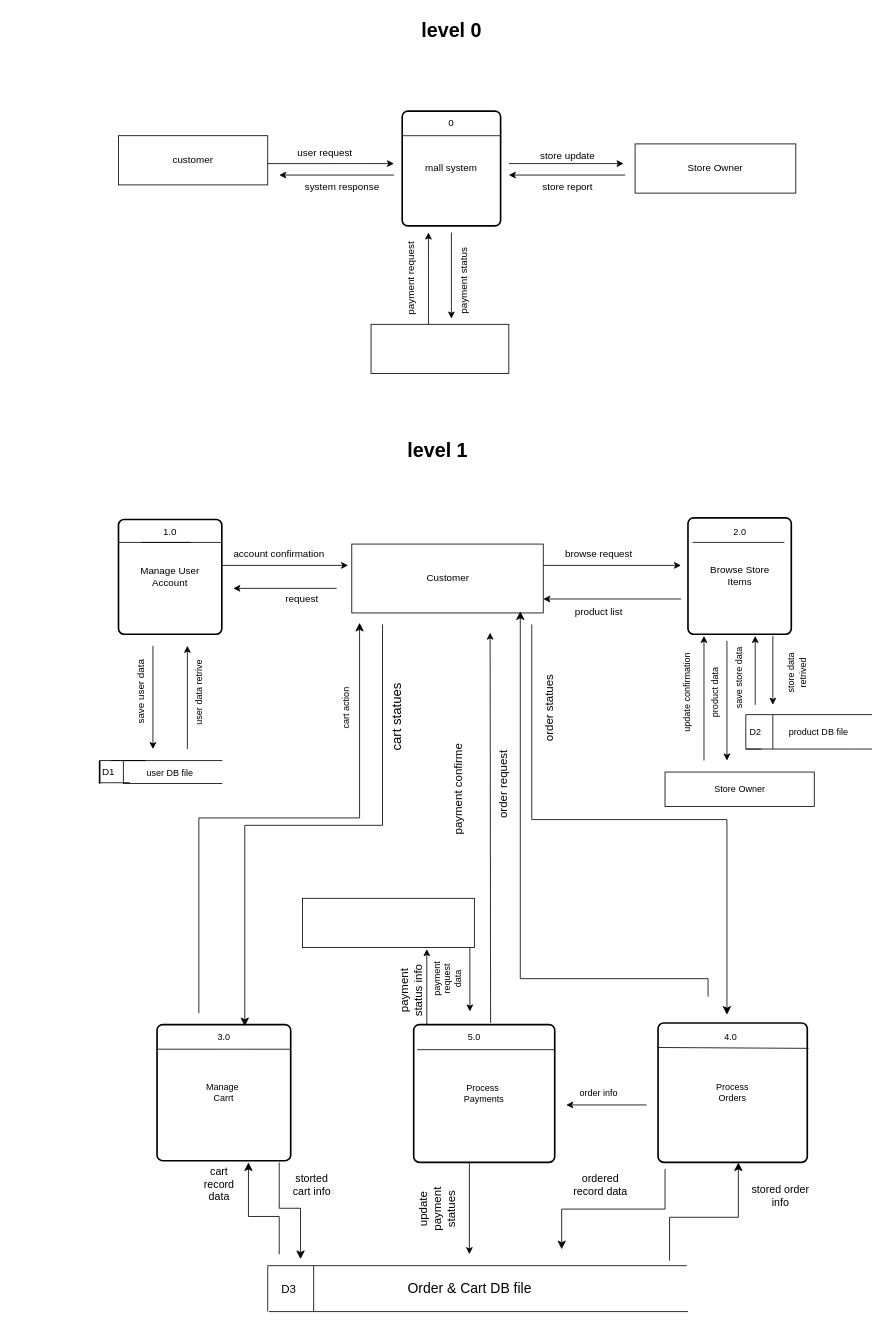
Image size: 887x1327. Some labels were removed from this diagram. Each missing label, with the centre of its shape:
"Payment Gataway" belongs at (x=439, y=348).
"Payment Gateway" belongs at (x=388, y=922).
